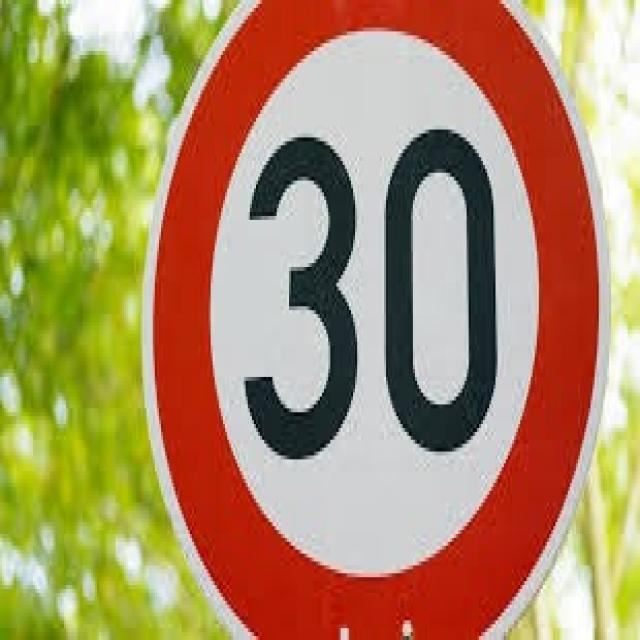speed_limit_30: (139, 0, 621, 640)
